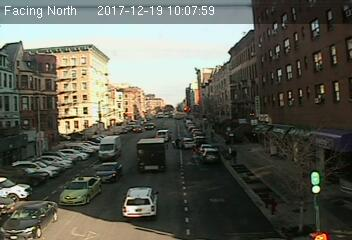car: (2, 198, 58, 240), (119, 187, 162, 217), (59, 175, 102, 205), (94, 162, 121, 182), (200, 148, 220, 163), (172, 136, 194, 148)
truck: (98, 135, 120, 160)
ups: (135, 137, 169, 173)
